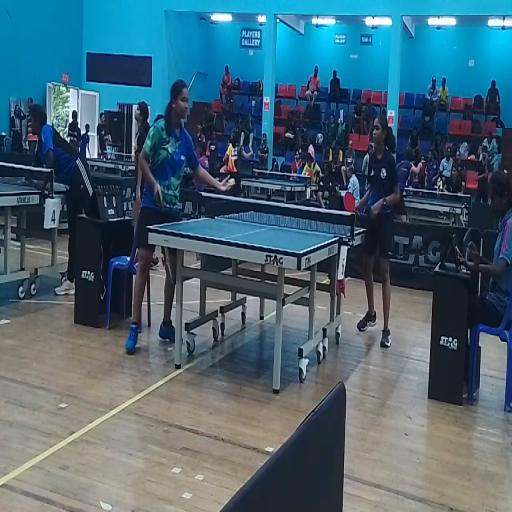ball: (229, 178, 236, 187)
